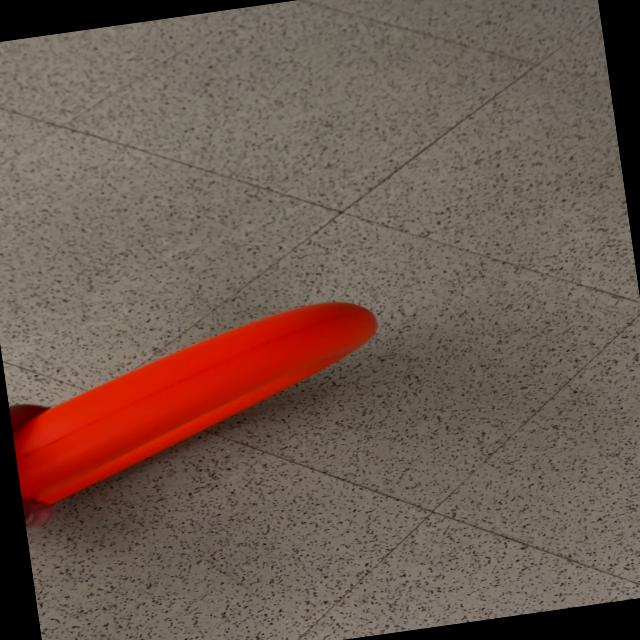note: (2, 294, 399, 513)
